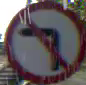Don't turn left: (4, 1, 85, 83)
